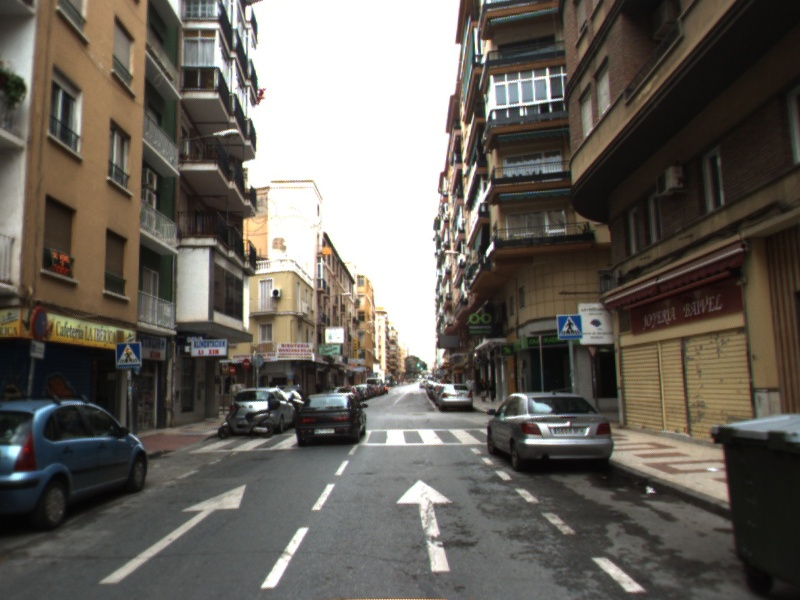STRAIGHT: (95, 480, 249, 587), (393, 476, 456, 574)
